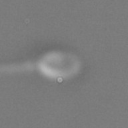normal: (1, 55, 37, 94)
